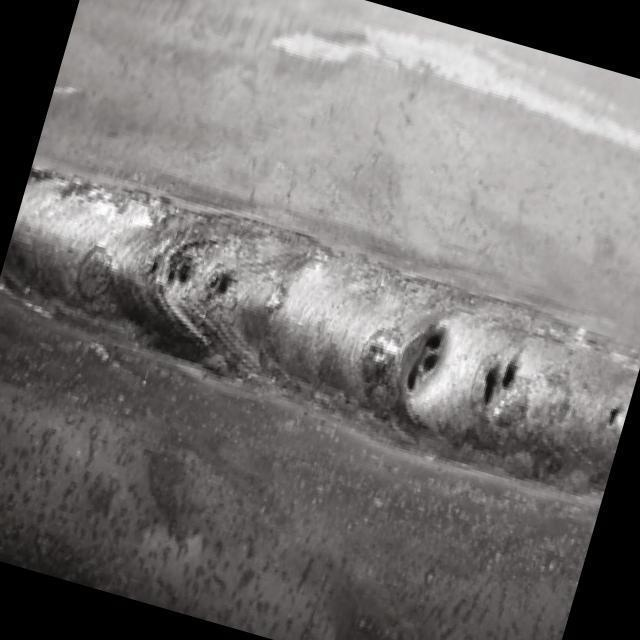defect: (391, 313, 452, 415), (470, 337, 526, 423), (139, 233, 201, 298), (199, 257, 240, 313), (600, 400, 625, 440)
